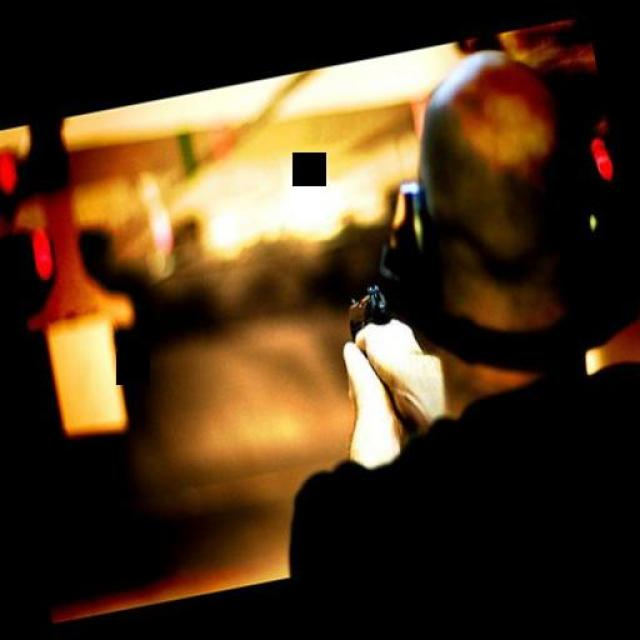gun: (338, 280, 414, 432)
